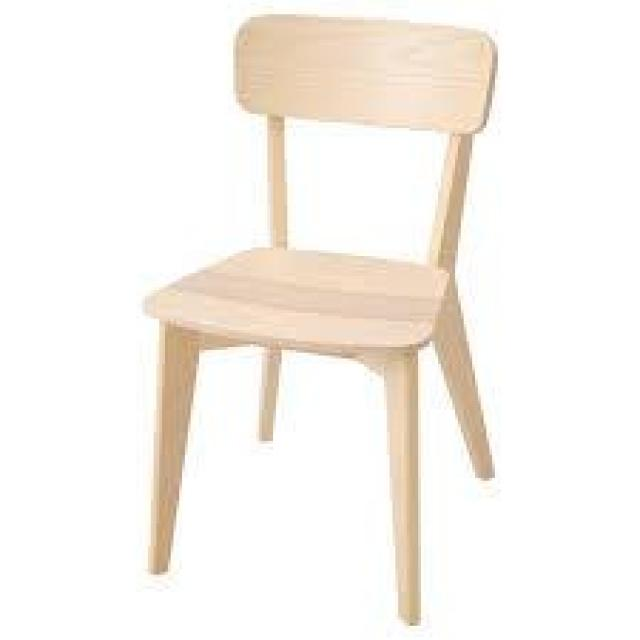chair: (70, 1, 548, 618)
